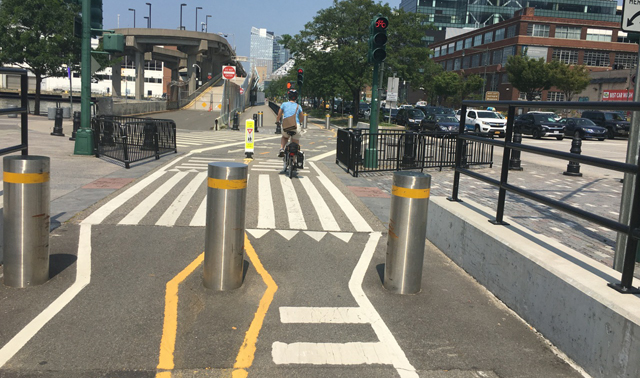bollard: (2, 158, 51, 288), (386, 173, 426, 292), (208, 164, 245, 292)
zebracross: (256, 169, 362, 235), (102, 167, 202, 233)
